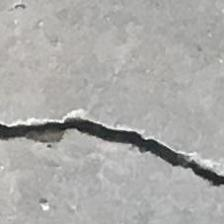Crack: (0, 98, 224, 192)
